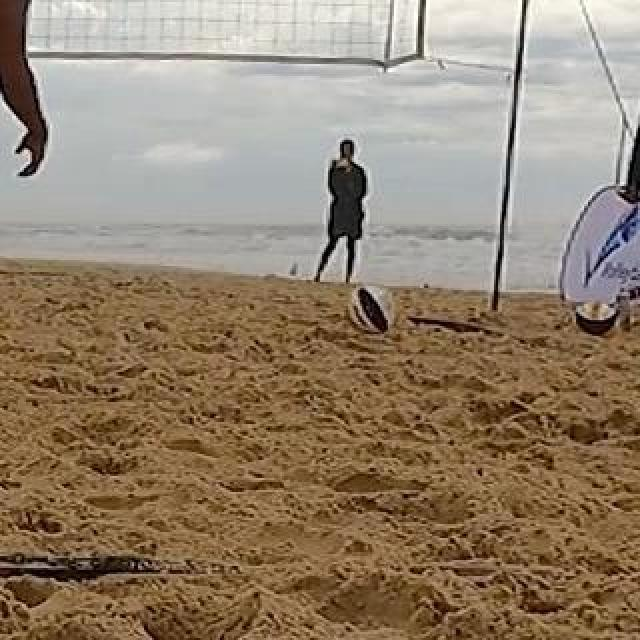volleyball: (345, 284, 397, 334)
